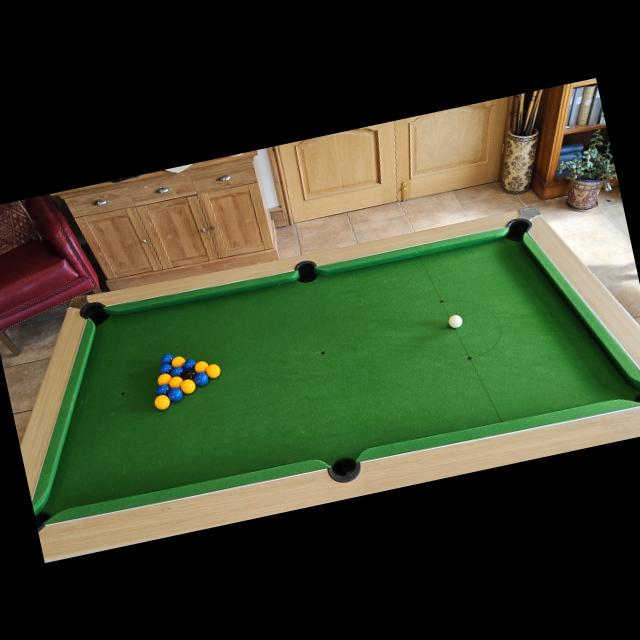Ball: (152, 392, 170, 410), (180, 376, 198, 394), (204, 362, 222, 379), (166, 385, 184, 402), (193, 369, 210, 386), (447, 313, 463, 329), (155, 382, 171, 398), (170, 354, 187, 369), (180, 367, 197, 382), (156, 372, 172, 387), (168, 375, 184, 390), (193, 359, 209, 374), (158, 362, 174, 376), (160, 352, 176, 365), (169, 366, 184, 378), (183, 358, 198, 370)
